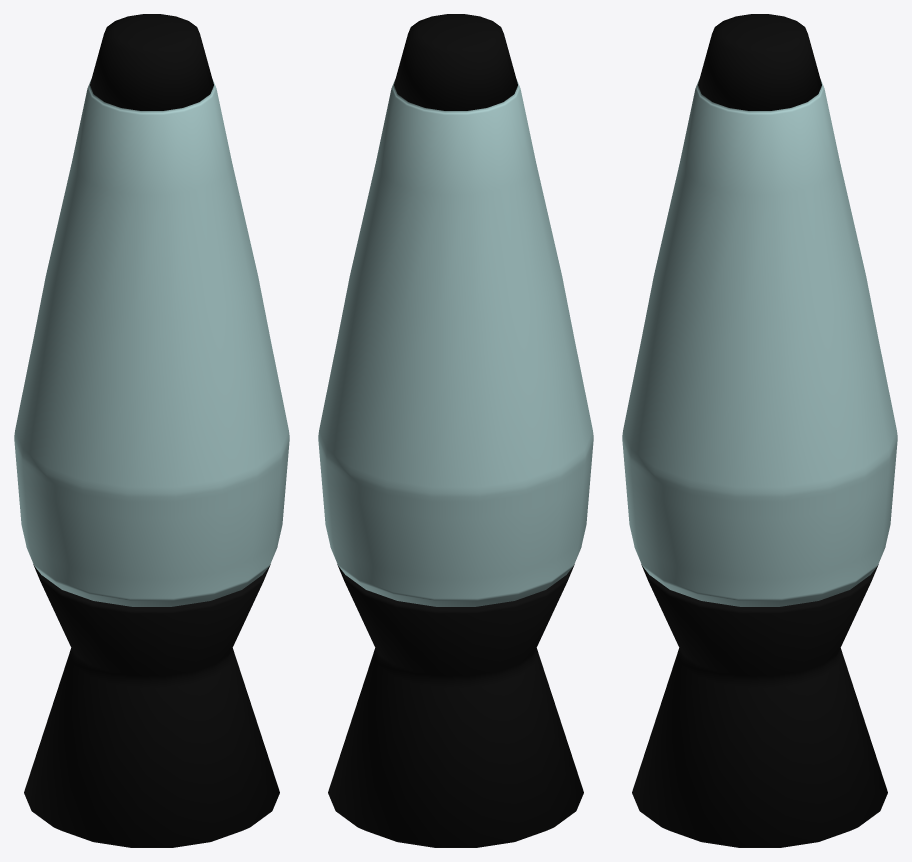
File: Hab_E_LamparaLava.fbx
3 renders of one model, left to right at view 1: azimuth 30°, elevation 25°; view 2: azimuth 150°, elevation 25°; view 3: azimuth 270°, elevation 25°, orthographic.
Parts seen in each view (by area): view 1: Tube001; view 2: Tube001; view 3: Tube001.
Boxes of the visible parts, bbox=[...] form: Tube001: bbox=[14, 14, 289, 847]; Tube001: bbox=[318, 14, 593, 847]; Tube001: bbox=[622, 14, 897, 847].
Bounding box in the file's own units: 25.56 × 80.26 × 25.95.
